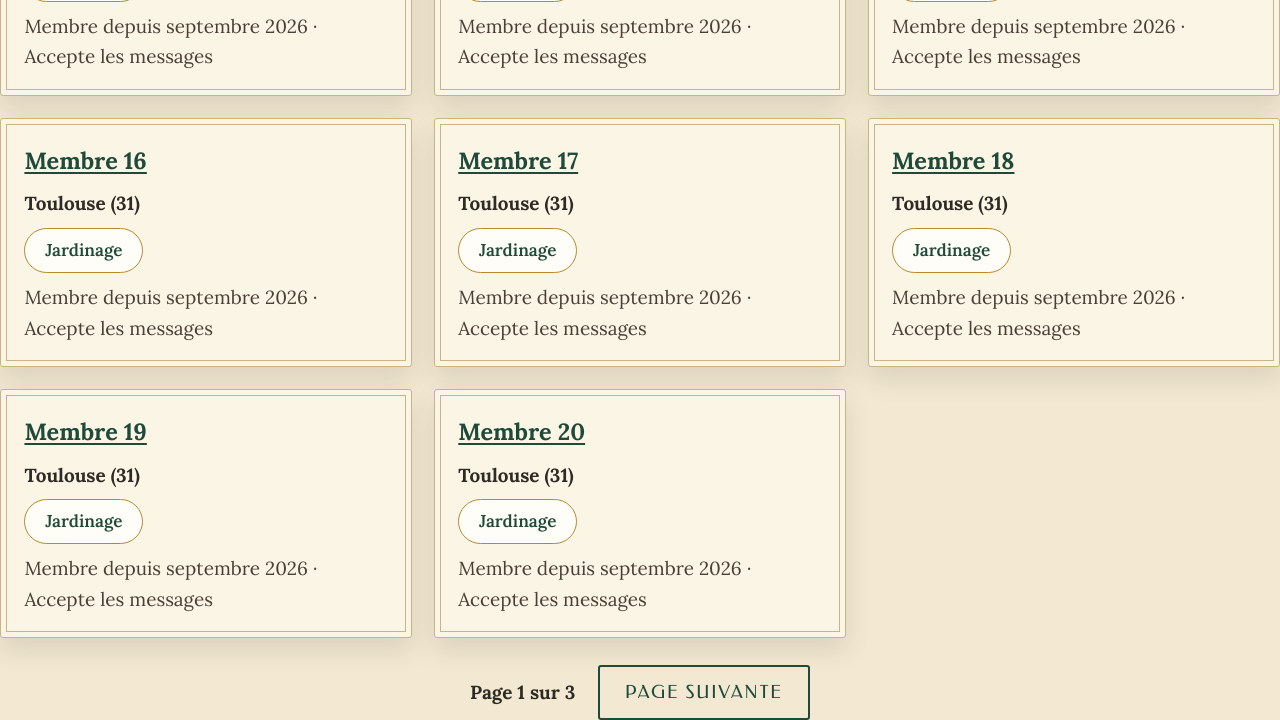
Scenario: découverte des membres › filtres et pagination › pagine par 20 en gardant les filtres
(page scrolled)
Expected: the navigation bar shows "Page 1 sur 3", [470,680,575,704]
Step 1. Click the link "Page suivante" → (704, 692), box [598,665,810,719]
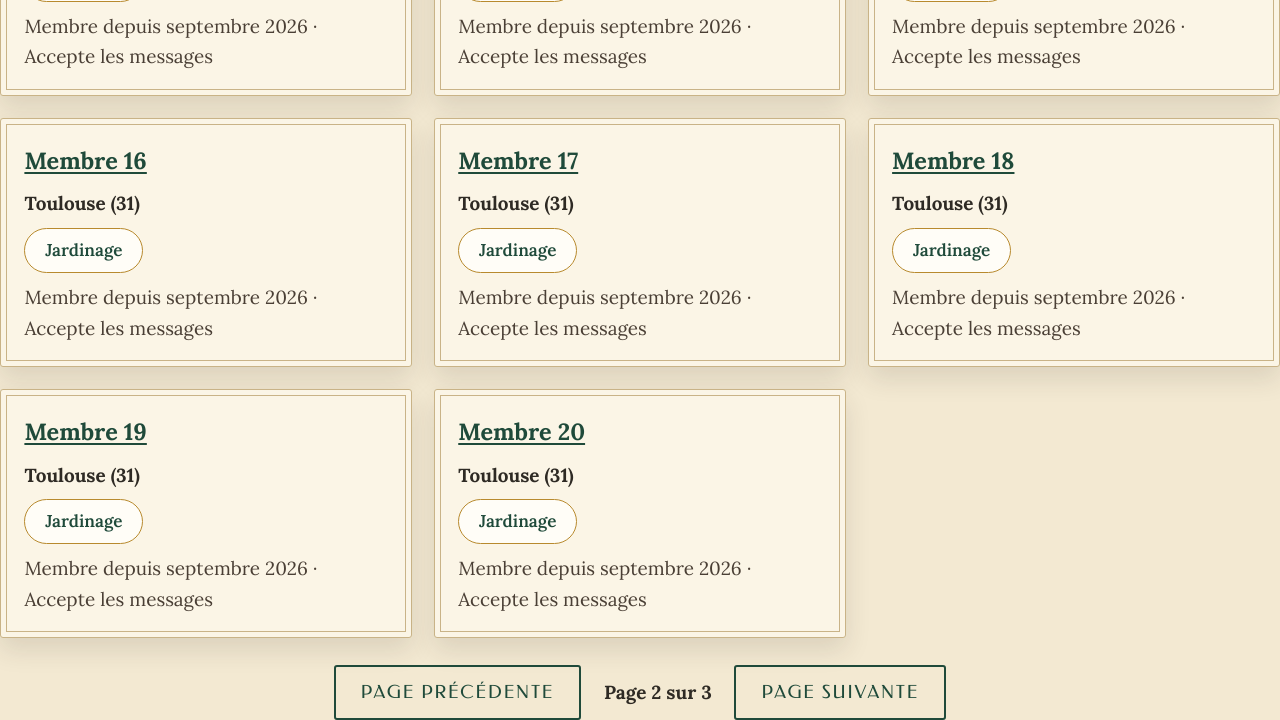
Now the navigation bar shows "Page 2 sur 3", box [604,680,712,704]
Now the link "Page précédente" is shown, box [334,665,581,719]
